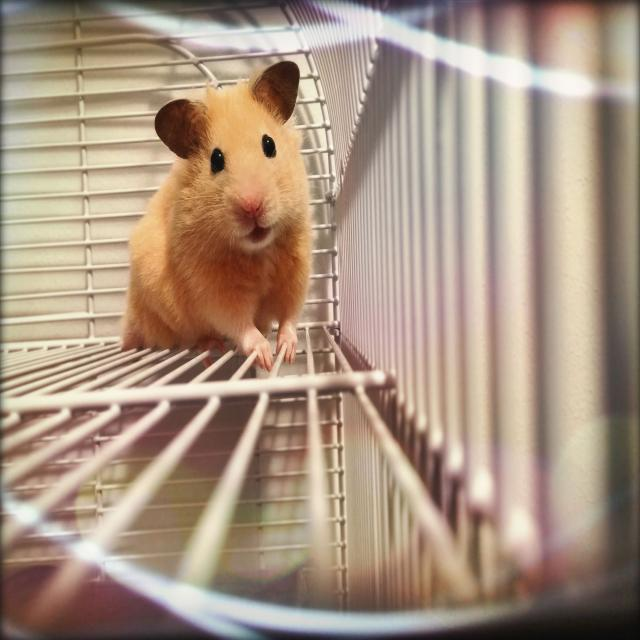hamster: (125, 58, 317, 358)
